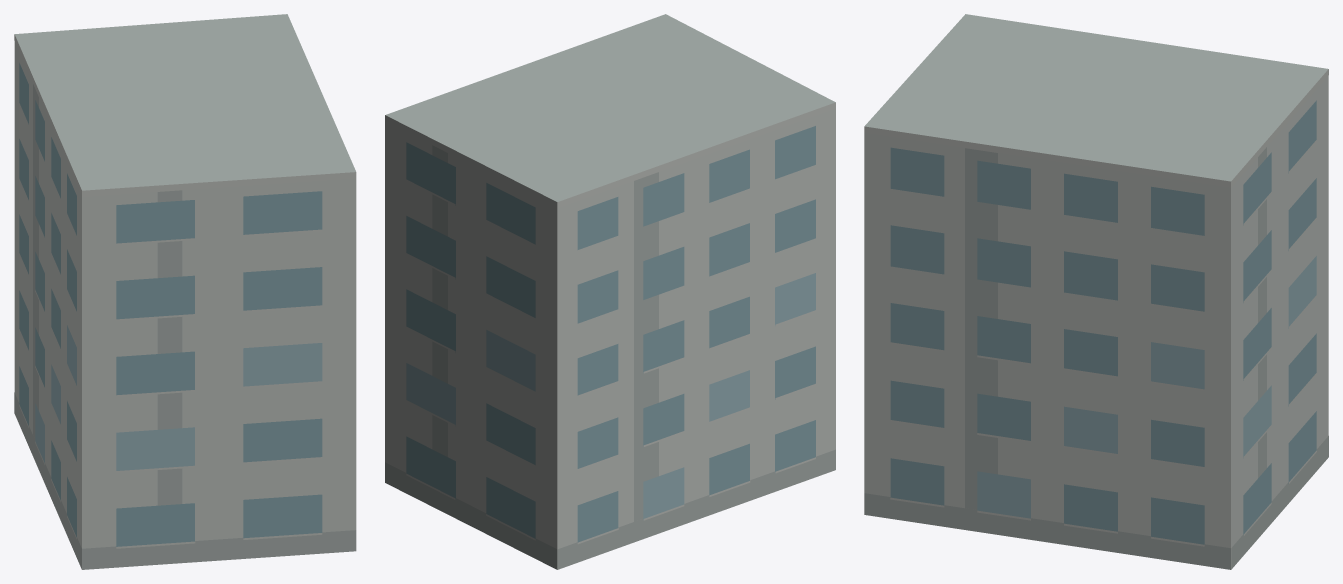
File: survey-upis-32894357.glb
The picture shows the model from 3 angles, left to right: view 1: azimuth 30°, elevation 25°; view 2: azimuth 150°, elevation 25°; view 3: azimuth 270°, elevation 25°; orthographic projection. The views are drawn at different scales.
Visible parts, largest first — view 1: survey-upis-32894357.tmp; view 2: survey-upis-32894357.tmp; view 3: survey-upis-32894357.tmp.
Boxes of the visible parts, left/top/right/bottom form: survey-upis-32894357.tmp: left=14, top=14, right=356, bottom=569; survey-upis-32894357.tmp: left=385, top=14, right=835, bottom=569; survey-upis-32894357.tmp: left=864, top=14, right=1328, bottom=569.
Size of the model in its own units: 13.33 by 14.4 by 15.62.
